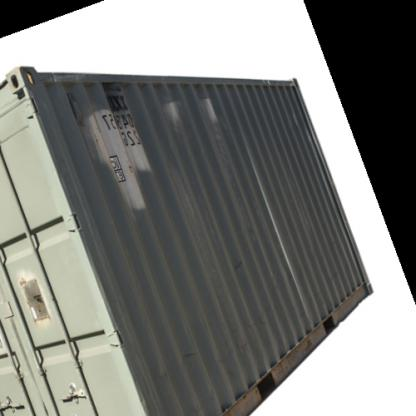Damage: (272, 324, 328, 379)
